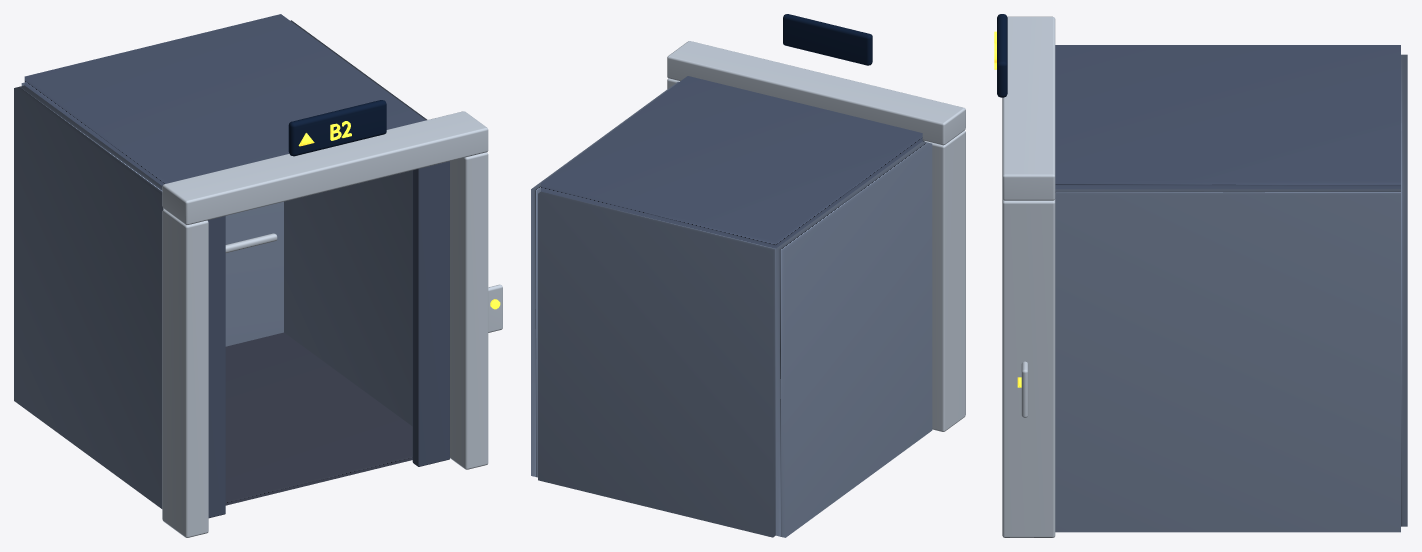
The model's file is aqua_elevator.glb.
3 renders of one model, left to right at view 1: azimuth 30°, elevation 25°; view 2: azimuth 150°, elevation 25°; view 3: azimuth 270°, elevation 25°, orthographic. The views are drawn at different scales.
Parts seen in each view (by area): view 1: Elevator; view 2: Elevator; view 3: Elevator.
Part boxes in pixels (x1,y1,x2,y2): Elevator: (14, 14, 502, 537); Elevator: (531, 14, 965, 537); Elevator: (994, 14, 1407, 537).
Bounding box in the file's own units: 3.06 × 3.5 × 3.11.
